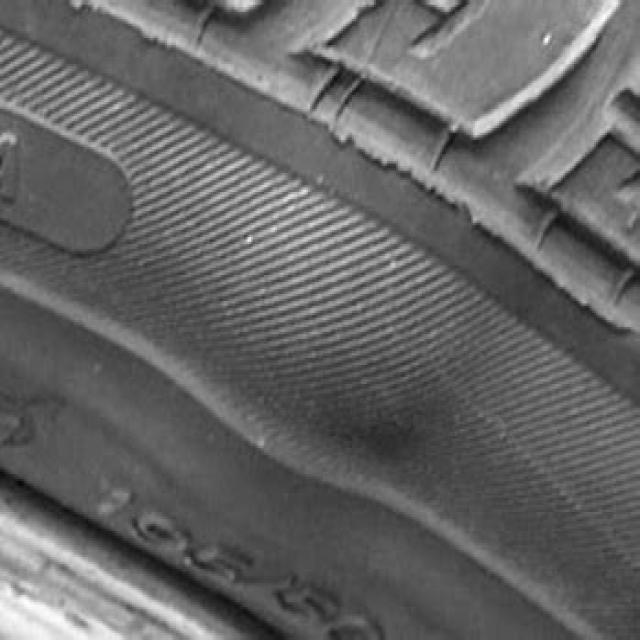Bulge: (180, 133, 488, 512)
